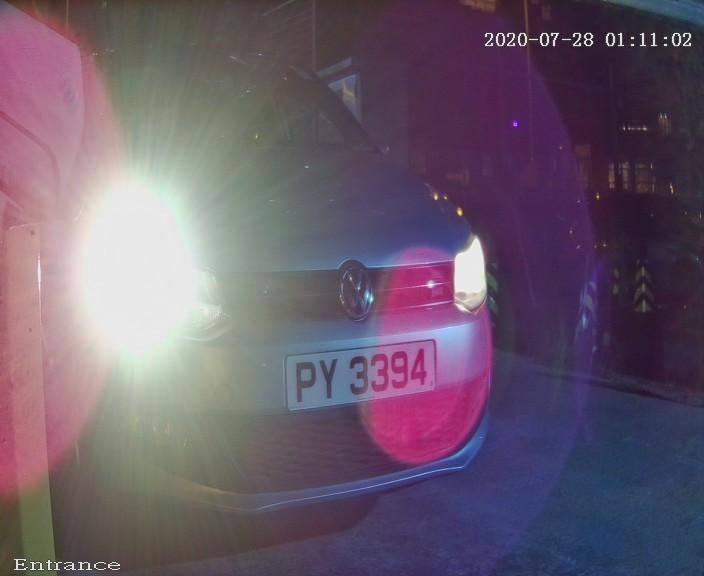privatecar: (16, 11, 566, 566)
